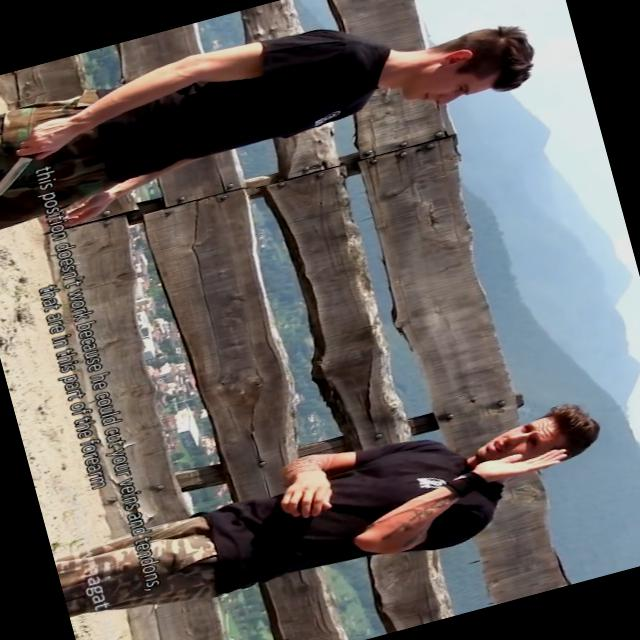knife: (0, 116, 75, 210)
